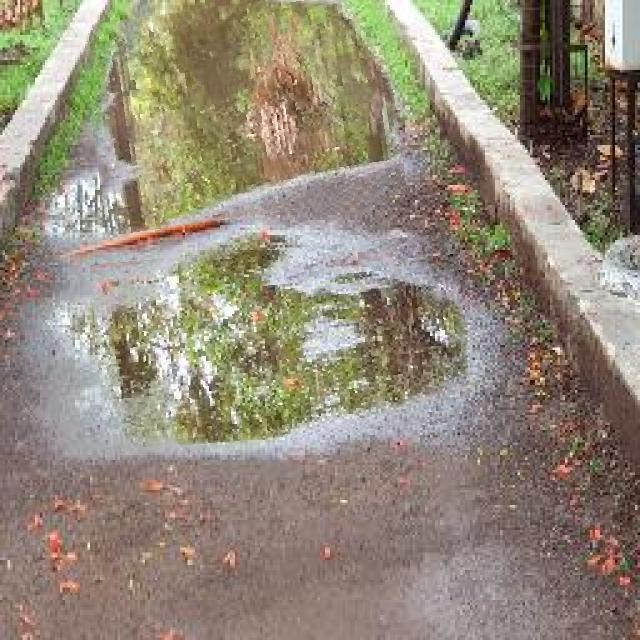puddle: (95, 242, 469, 446), (85, 1, 401, 226)
